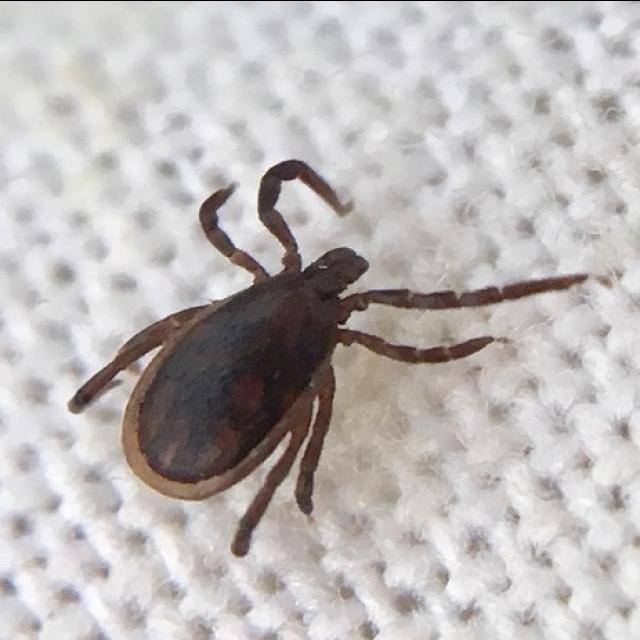Ixodes Ricinus-M: (69, 157, 597, 557)
